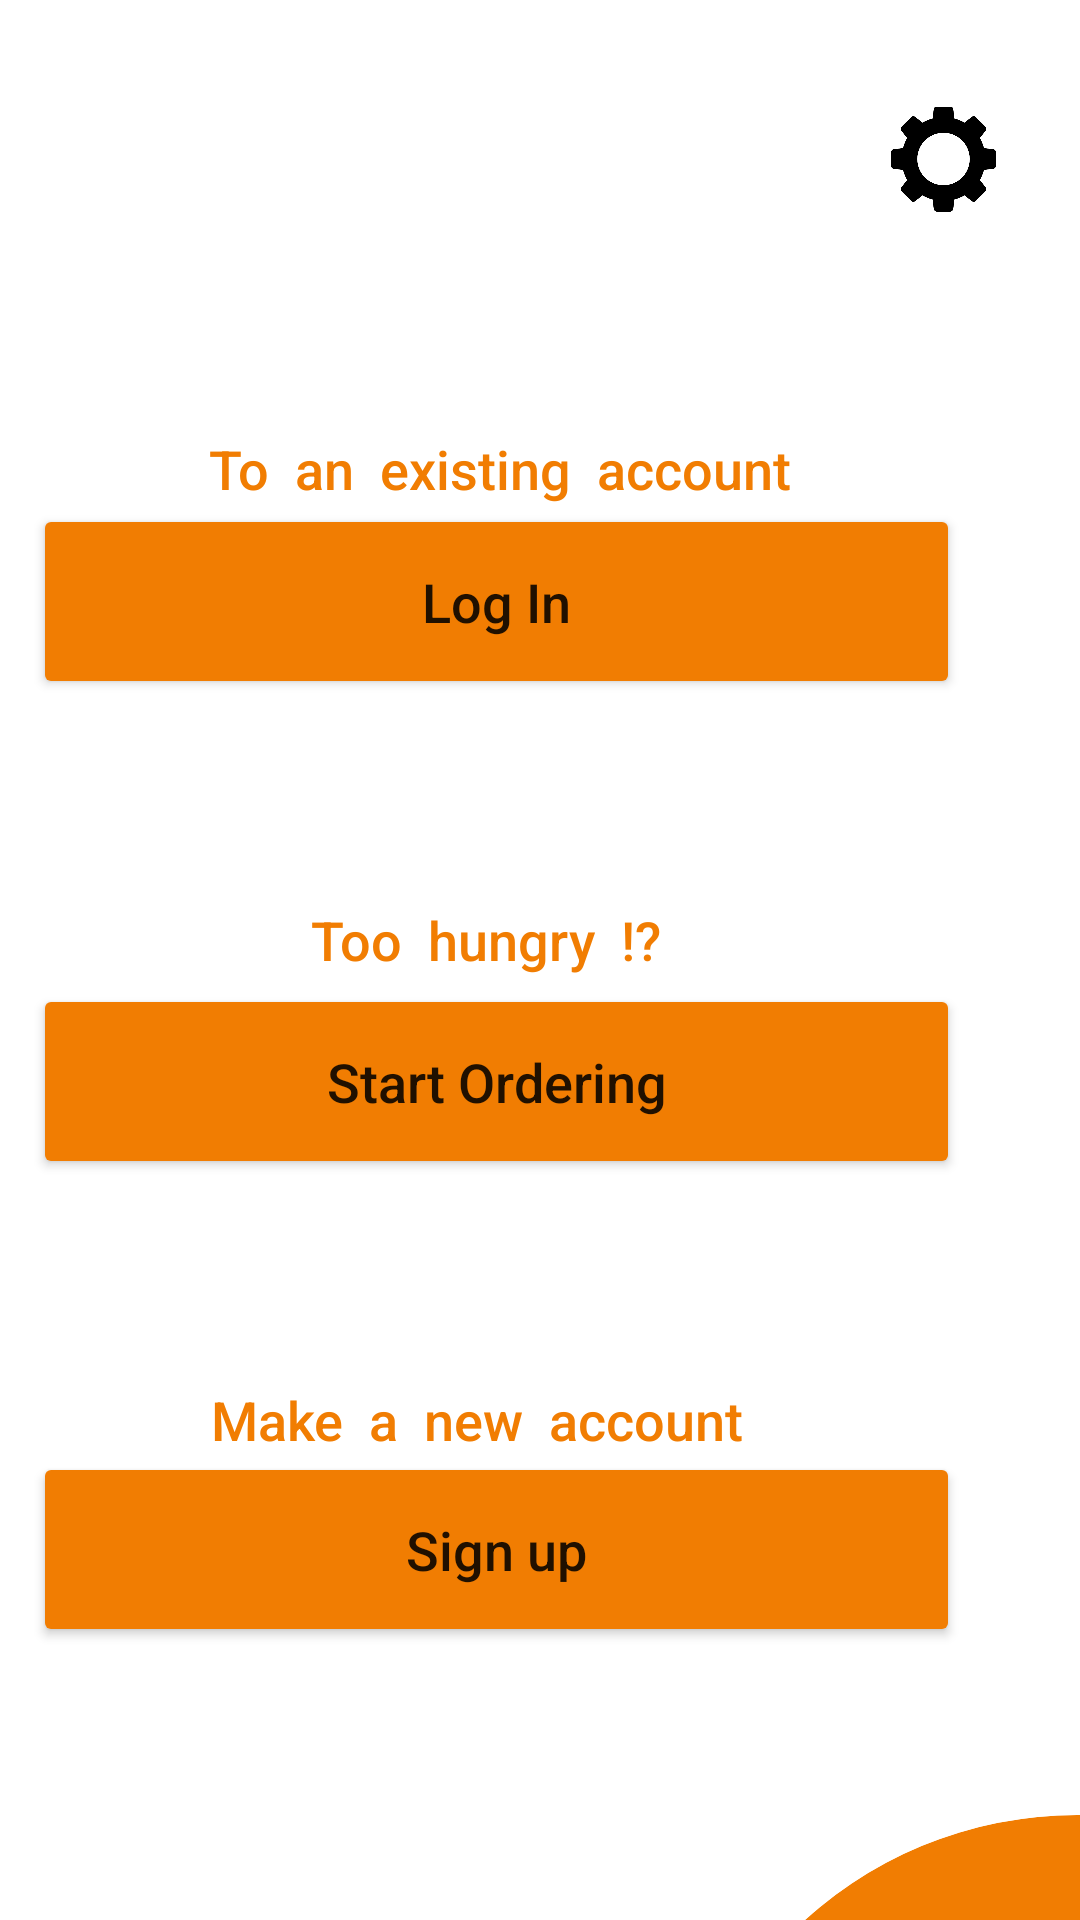

Icon click points for this 1080 x 1920 phone screenshot, format (x=x, y=y):
settings: (x=943, y=159)
